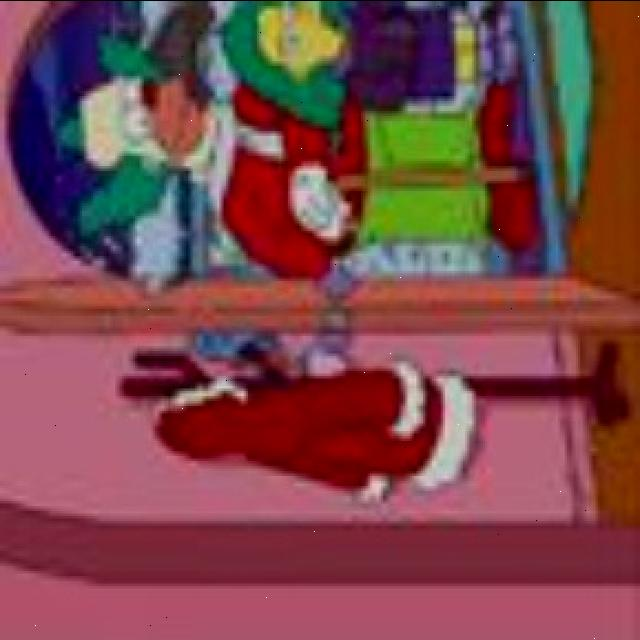Krusty the Clown: (54, 32, 220, 238)
